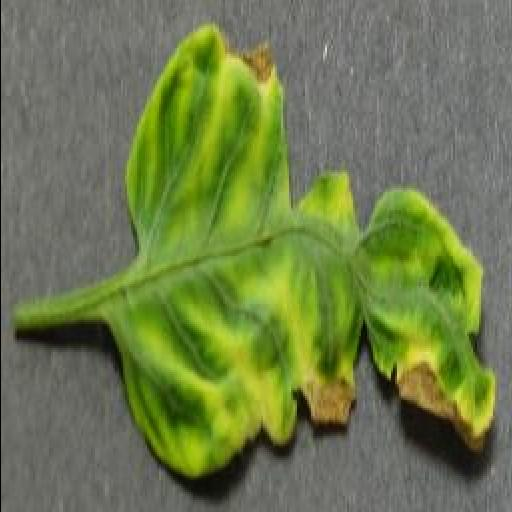disease_tomato: (122, 22, 498, 482)
